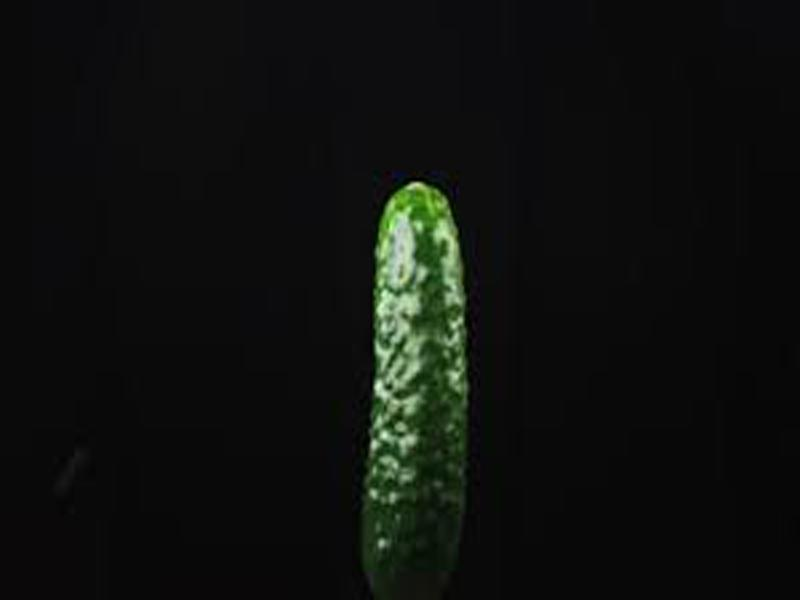Cucumber: (359, 179, 468, 600)
